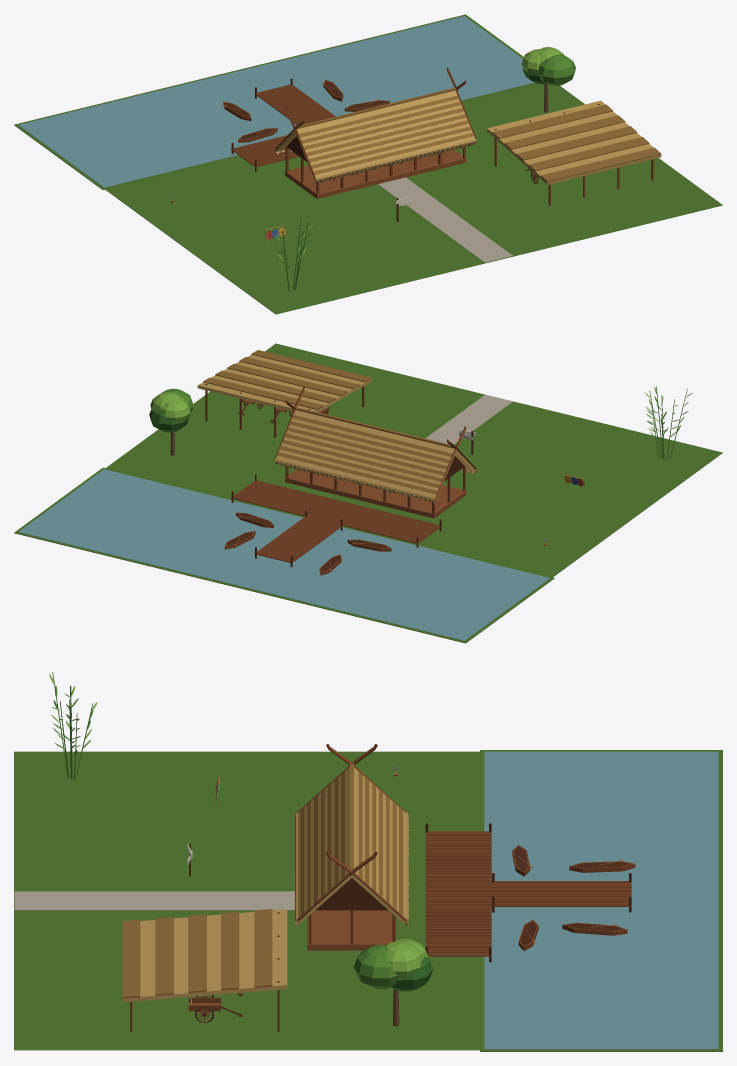
Rendered from station.glb.
The picture shows the model from 3 angles, top to bottom: view 1: azimuth 30°, elevation 25°; view 2: azimuth 150°, elevation 25°; view 3: azimuth 270°, elevation 25°; orthographic projection. The views are drawn at different scales.
Parts seen in each view (by area): view 1: body; view 2: body; view 3: body.
Part boxes in pixels (box(x1,y1,x2,y2)): body: box(14, 14, 722, 314); body: box(14, 343, 722, 643); body: box(14, 672, 722, 1051).
Size of the model in its own units: 48.4 by 8.05 by 48.15.
